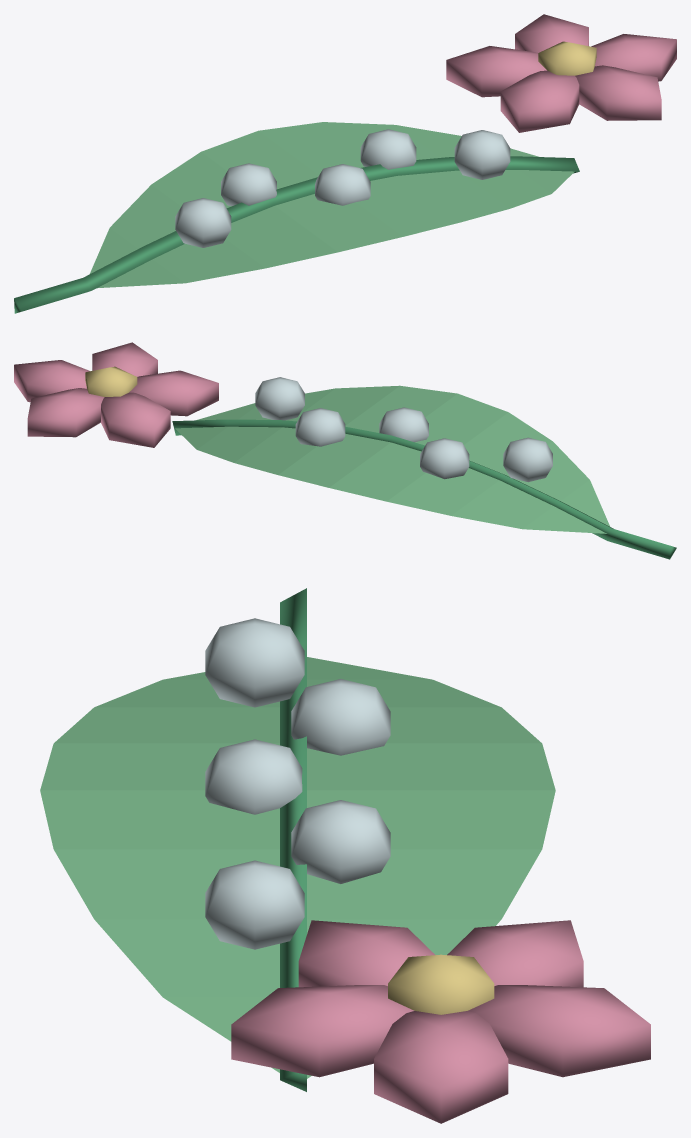
The model's file is ing_rose_maze_dew.gltf.
3 renders of one model, top to bottom at view 1: azimuth 30°, elevation 25°; view 2: azimuth 150°, elevation 25°; view 3: azimuth 270°, elevation 25°, orthographic. The views are drawn at different scales.
Visible parts, largest first — view 1: ing_rose_maze_dew; view 2: ing_rose_maze_dew; view 3: ing_rose_maze_dew.
Boxes of the visible parts, x1,y1,x2,y2 form: ing_rose_maze_dew: (14, 14, 676, 313); ing_rose_maze_dew: (14, 342, 676, 559); ing_rose_maze_dew: (40, 588, 650, 1123).
Size of what is drawn, in the model's own units: 0.2009 by 0.0272 by 0.0853.
